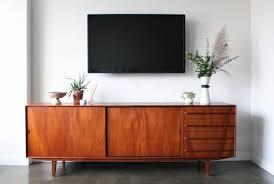TV: (84, 10, 186, 76)
console: (21, 100, 238, 177)
